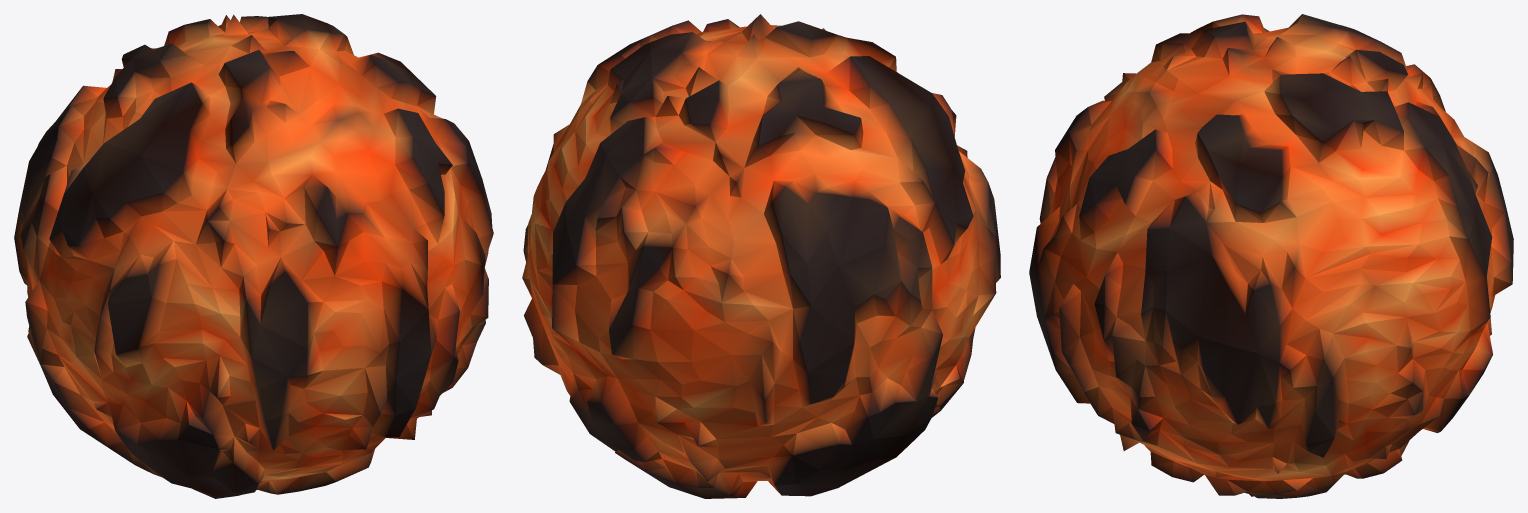
File: barren_8.fbx
3 renders of one model, left to right at view 1: azimuth 30°, elevation 25°; view 2: azimuth 150°, elevation 25°; view 3: azimuth 270°, elevation 25°, orthographic.
Visible parts, largest first — view 1: filecache1; view 2: filecache1; view 3: filecache1.
Boxes of the visible parts, bbox=[...] form: filecache1: bbox=[14, 14, 493, 498]; filecache1: bbox=[522, 14, 1000, 498]; filecache1: bbox=[1029, 14, 1513, 498].
Size of the model in its own units: 2.15 by 2.16 by 2.16.
